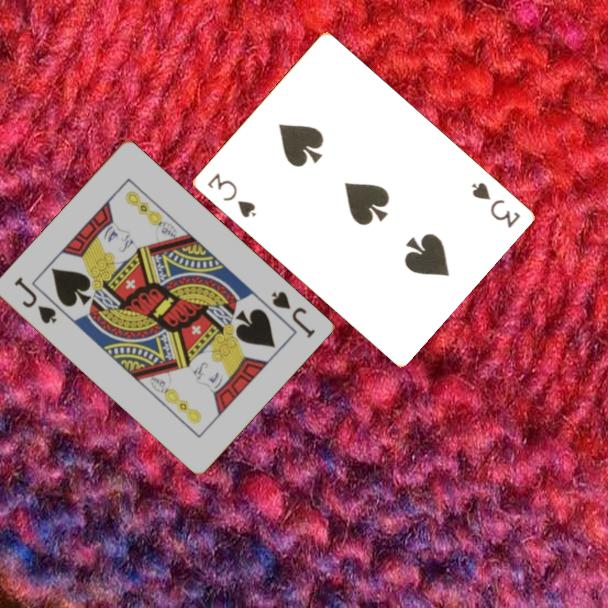s03: (203, 169, 258, 221), (468, 179, 523, 231)
s11: (267, 287, 318, 341), (10, 273, 59, 327)
